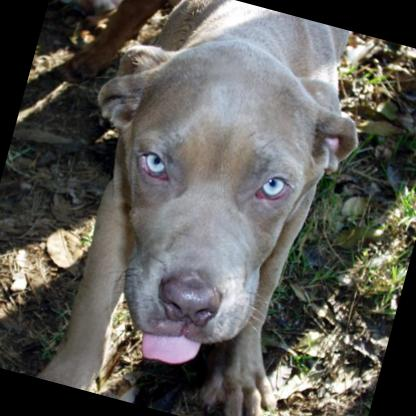Mexican_hairless: (23, 0, 383, 416)
